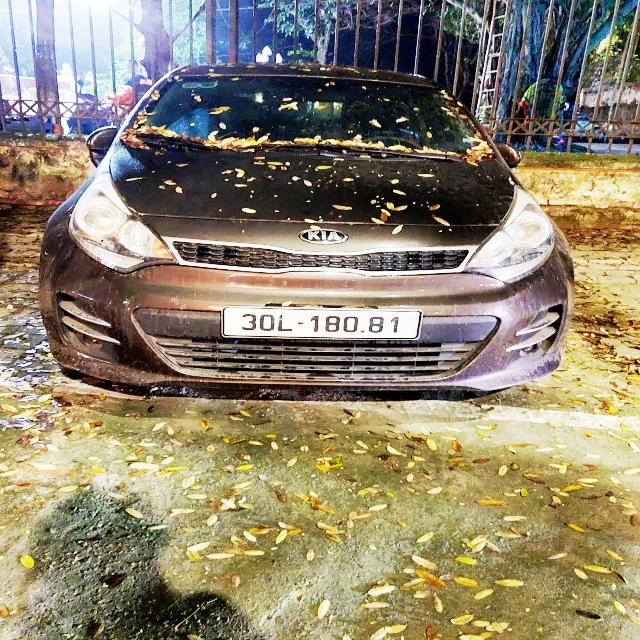license_plate: (221, 305, 425, 342)
